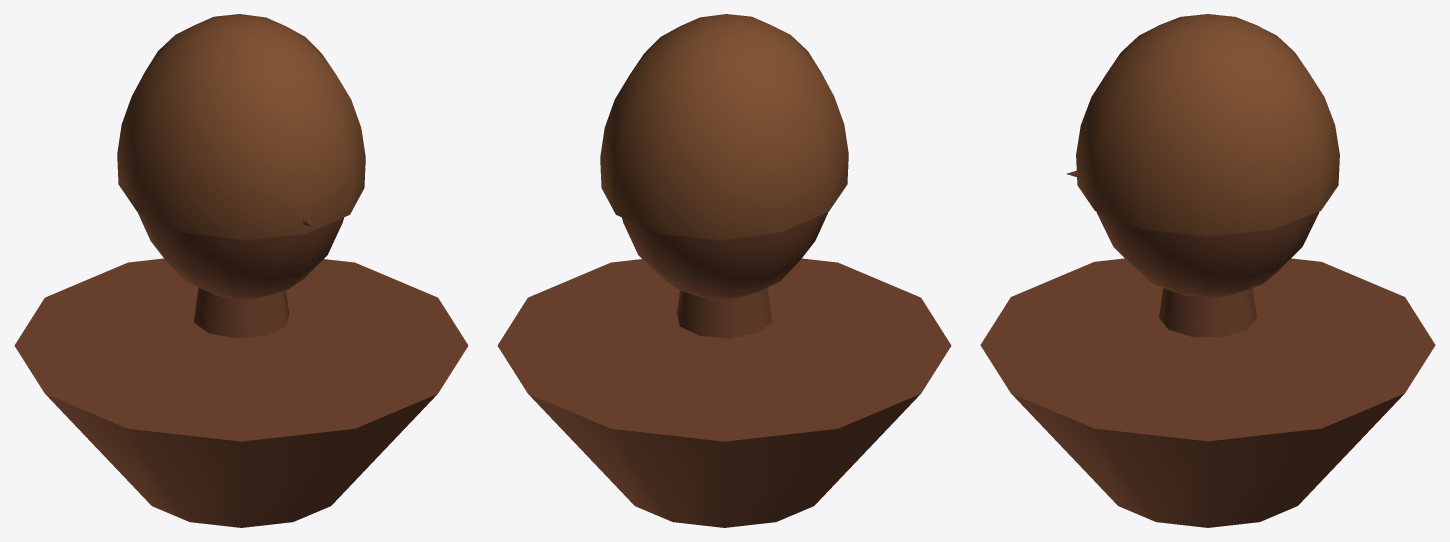
The model's file is portrait07m_003.glb.
The picture shows the model from 3 angles, left to right: view 1: azimuth 30°, elevation 25°; view 2: azimuth 150°, elevation 25°; view 3: azimuth 270°, elevation 25°; orthographic projection.
Bounding box in the file's own units: 1.95 × 2.18 × 1.95.
